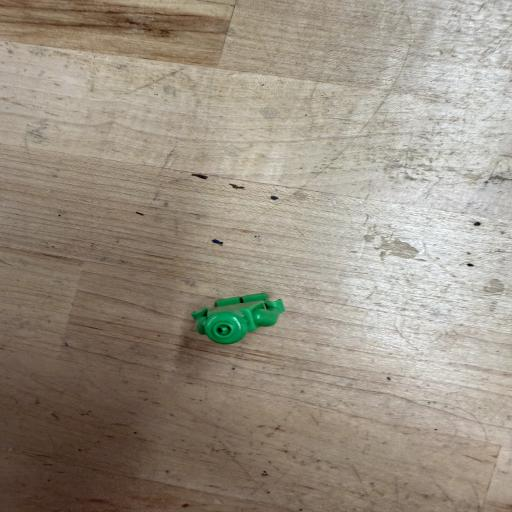green-minifig: (191, 293, 285, 345)
